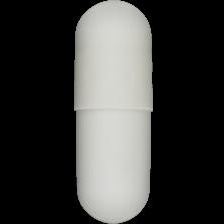55289-214: (0, 0, 224, 224)
